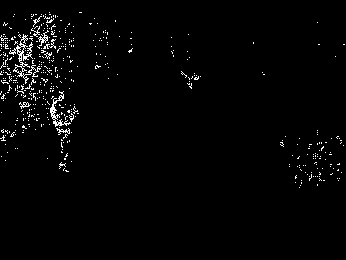person: (49, 90, 78, 174)
